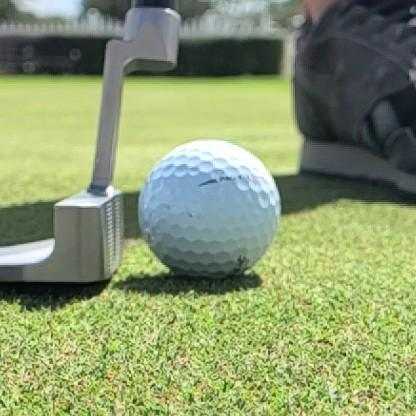golfball: (138, 140, 281, 278)
